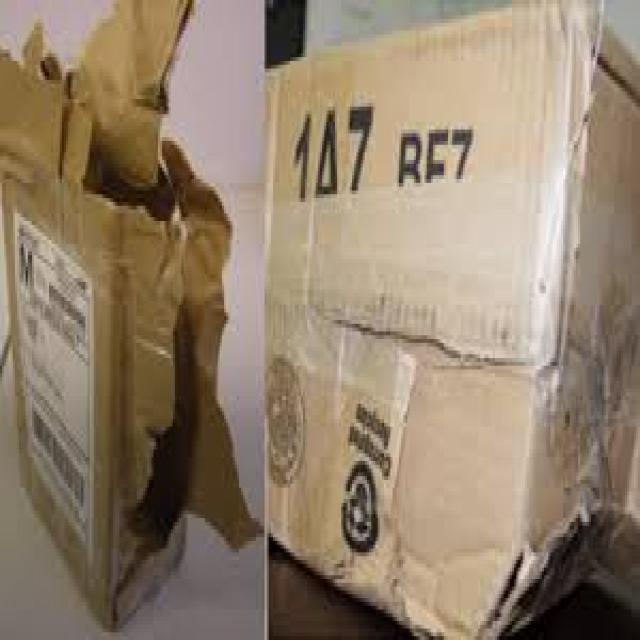Kardus kondisi rusak: (265, 1, 640, 640), (1, 1, 267, 637)
